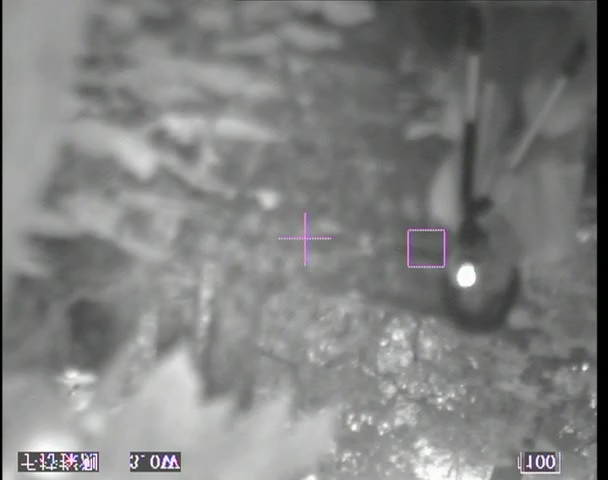my: (455, 264, 478, 286)
